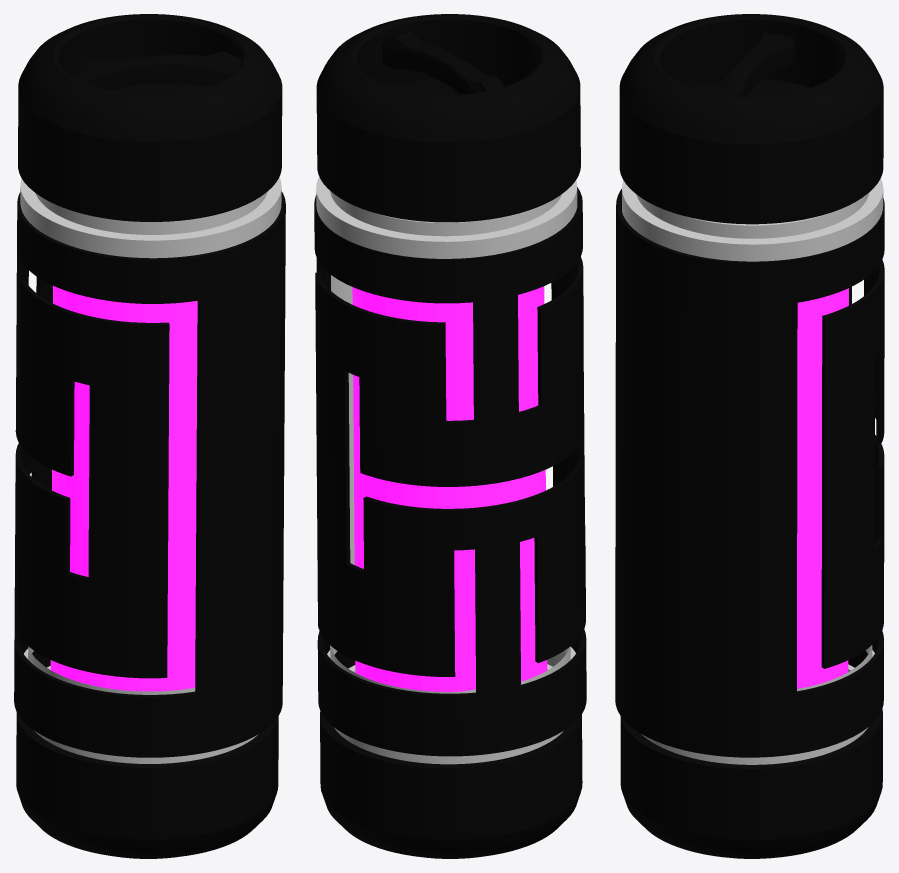
The model's file is reactor_basic.fbx.
3 views of the same model, side by side, from view 1: azimuth 30°, elevation 25°; view 2: azimuth 150°, elevation 25°; view 3: azimuth 270°, elevation 25° (orthographic).
Visible parts, largest first — view 1: Outer_Shell, Lid, Reactor_Case, Cylinder.002; view 2: Outer_Shell, Lid, Reactor_Case, Cylinder.002; view 3: Outer_Shell, Lid, Reactor_Case, Cylinder.002.
Boxes of the visible parts, x1=… form: Outer_Shell: x1=14, y1=191, x2=285, y2=757; Lid: x1=18, y1=14, x2=282, y2=221; Reactor_Case: x1=16, y1=177, x2=281, y2=858; Cylinder.002: x1=50, y1=285, x2=197, y2=691; Outer_Shell: x1=314, y1=187, x2=586, y2=756; Lid: x1=316, y1=14, x2=580, y2=222; Reactor_Case: x1=316, y1=176, x2=582, y2=858; Cylinder.002: x1=352, y1=286, x2=547, y2=691; Outer_Shell: x1=615, y1=189, x2=884, y2=757; Lid: x1=619, y1=14, x2=883, y2=224; Reactor_Case: x1=620, y1=178, x2=883, y2=858; Cylinder.002: x1=797, y1=288, x2=848, y2=688.
Bounding box in the file's own units: 31.91 × 98.54 × 31.52.
